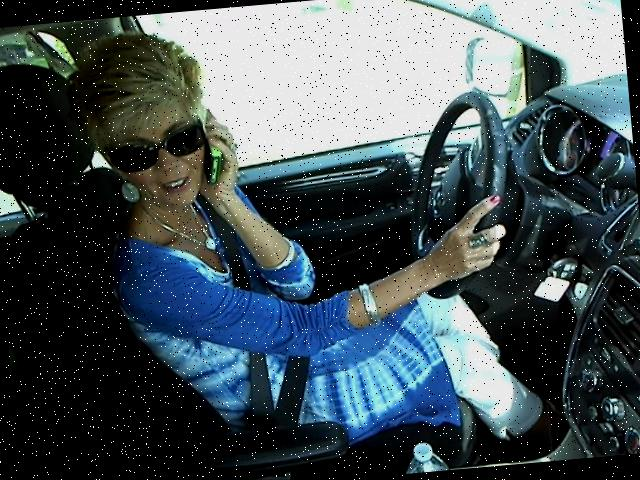c2 - Talking on the phone: (57, 0, 541, 375)
